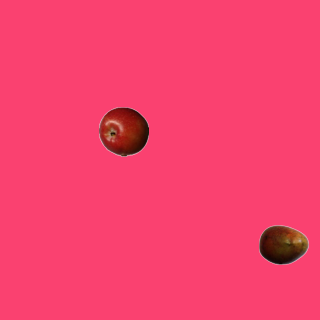Apple Braeburn: (98, 106, 148, 156)
Mango Red: (258, 219, 308, 269)
